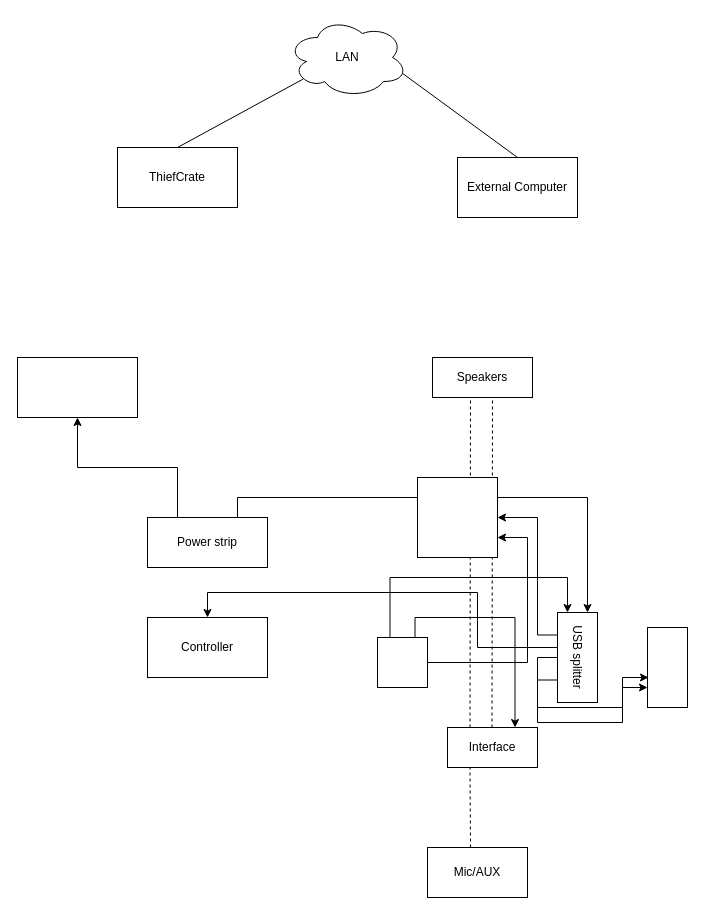
Some shapes in this 705 by 915 pixel diagram are drawn without their labels. Here are the shapes that lost their labels. From the top down, the centre of each, then its label:
At [77,387]: "AC Outlet".
At [457,517]: "Screen".
At [402,662]: "PI".
At [667,667]: "Wireless periphery".
